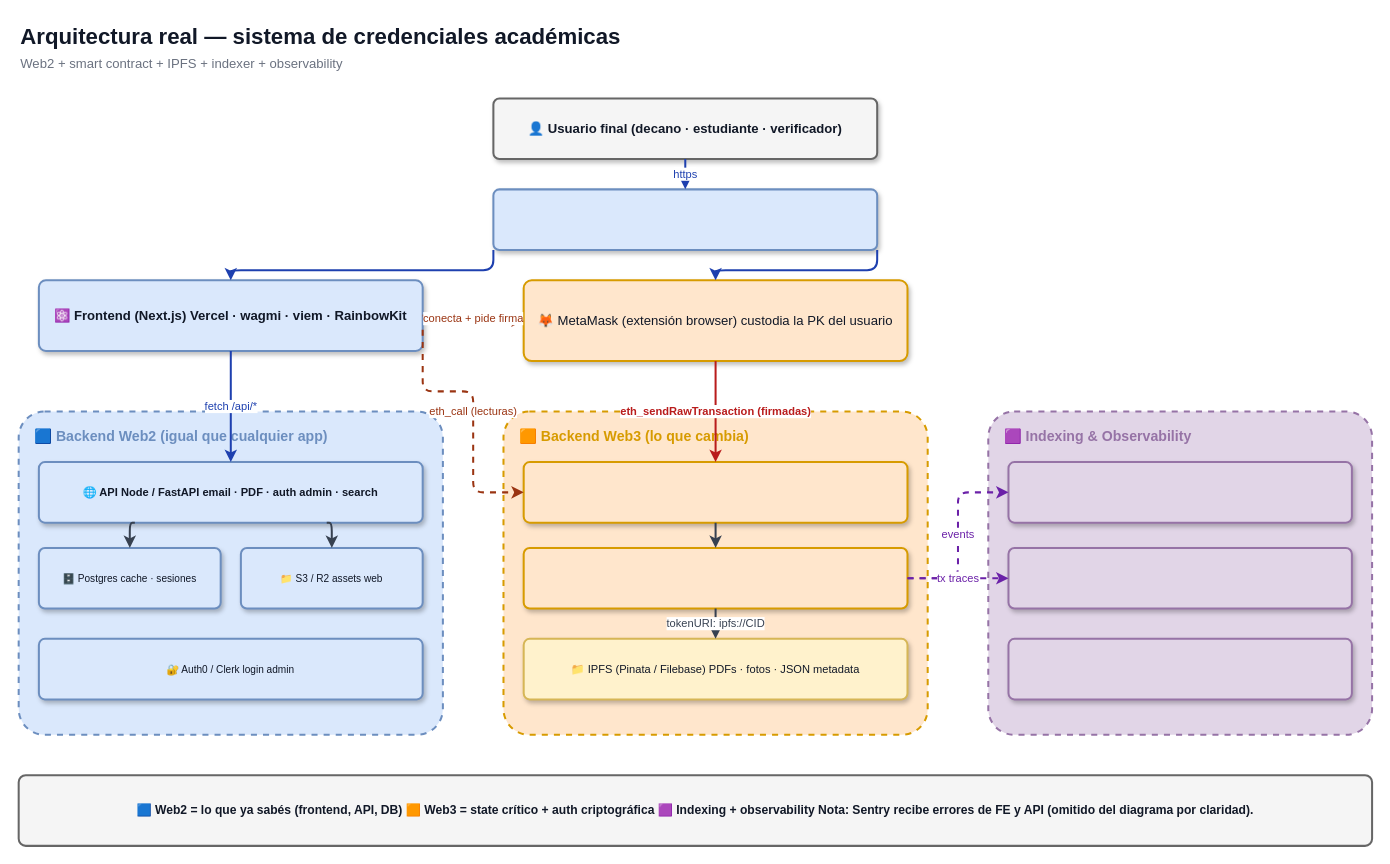
This 1390x864 diagram has some shape labels left out. Each missing label, with the centre of its shape:
🌐 Cloudflare CDN + DNS credentials.unq.edu.ar: point (686, 221)
🌐 Nodo RPC Alchemy / Infura / Quicknode: point (716, 493)
🐛 Sentry / Datadog errores frontend + API: point (1180, 670)
📊 The Graph GraphQL sobre eventos: point (1180, 493)
📜 AcademicCredentials.sol Sepolia (dev) → Base / Polygon: point (716, 579)
🔭 Tenderly tx traces · alarmas: point (1180, 579)
